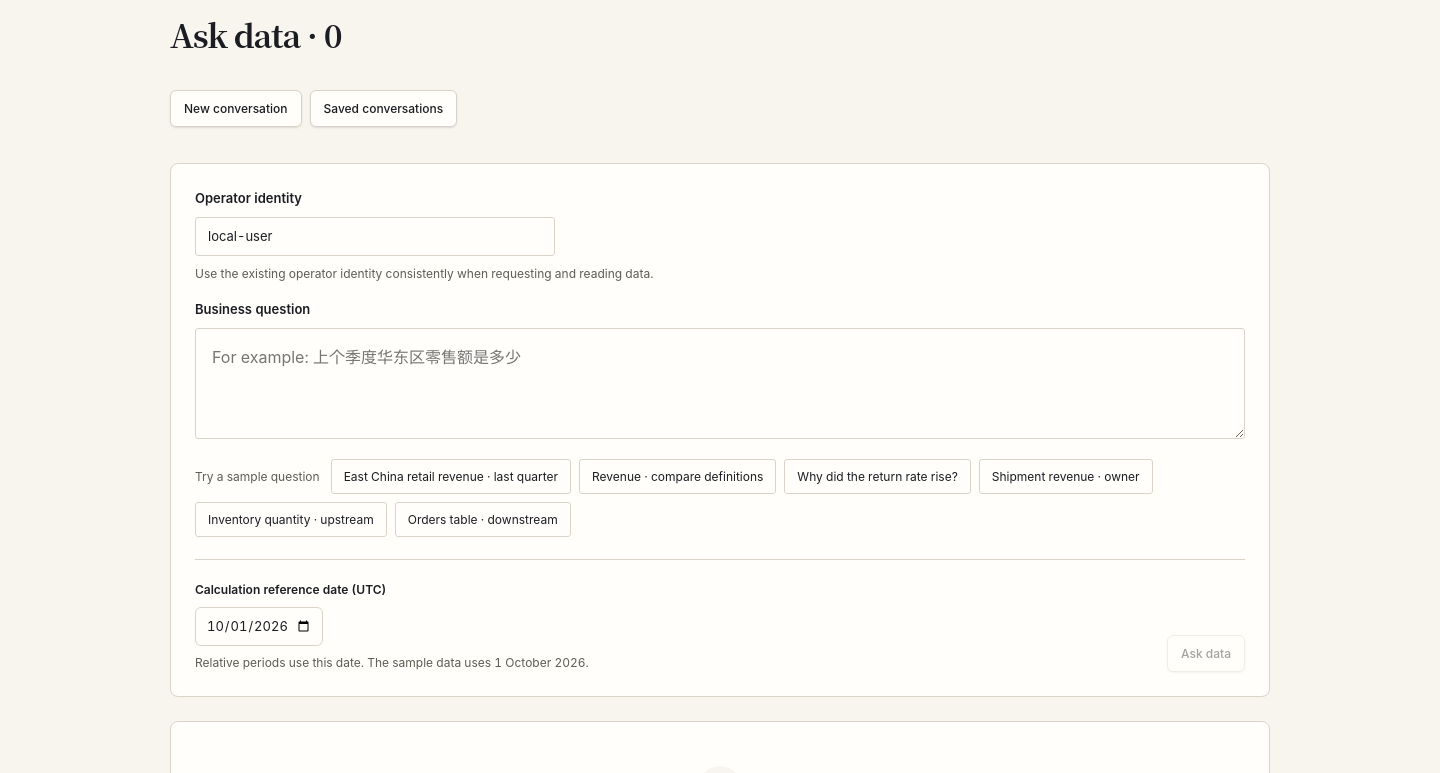
Test: sends the conversation on follow-ups, shows full interpretations, and clears it for a new topic
In the text box labelled "Business question": (720, 383) [195, 328, 1245, 439], type "上个季度华东区零售额是多少"
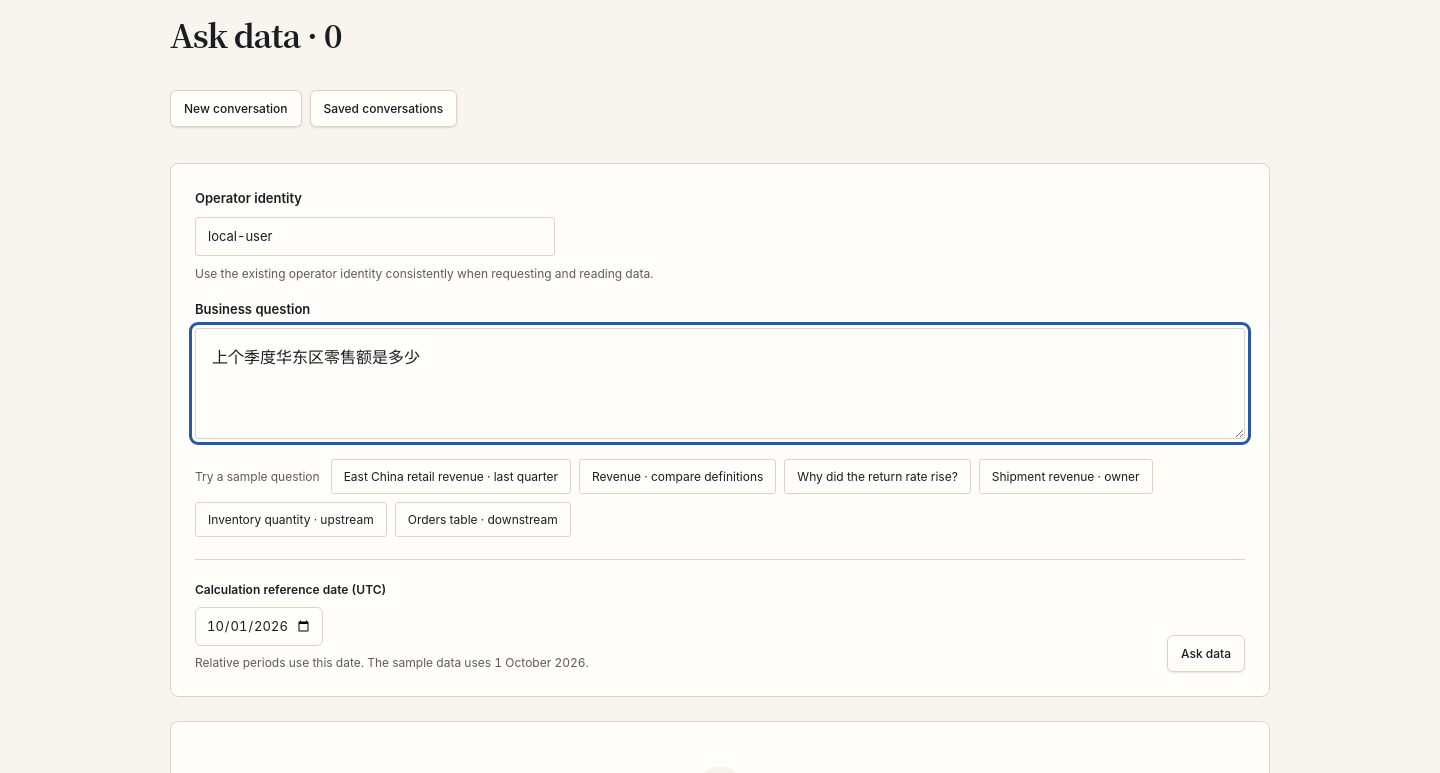
Click the button "Ask data": (1206, 654) [1167, 635, 1245, 672]
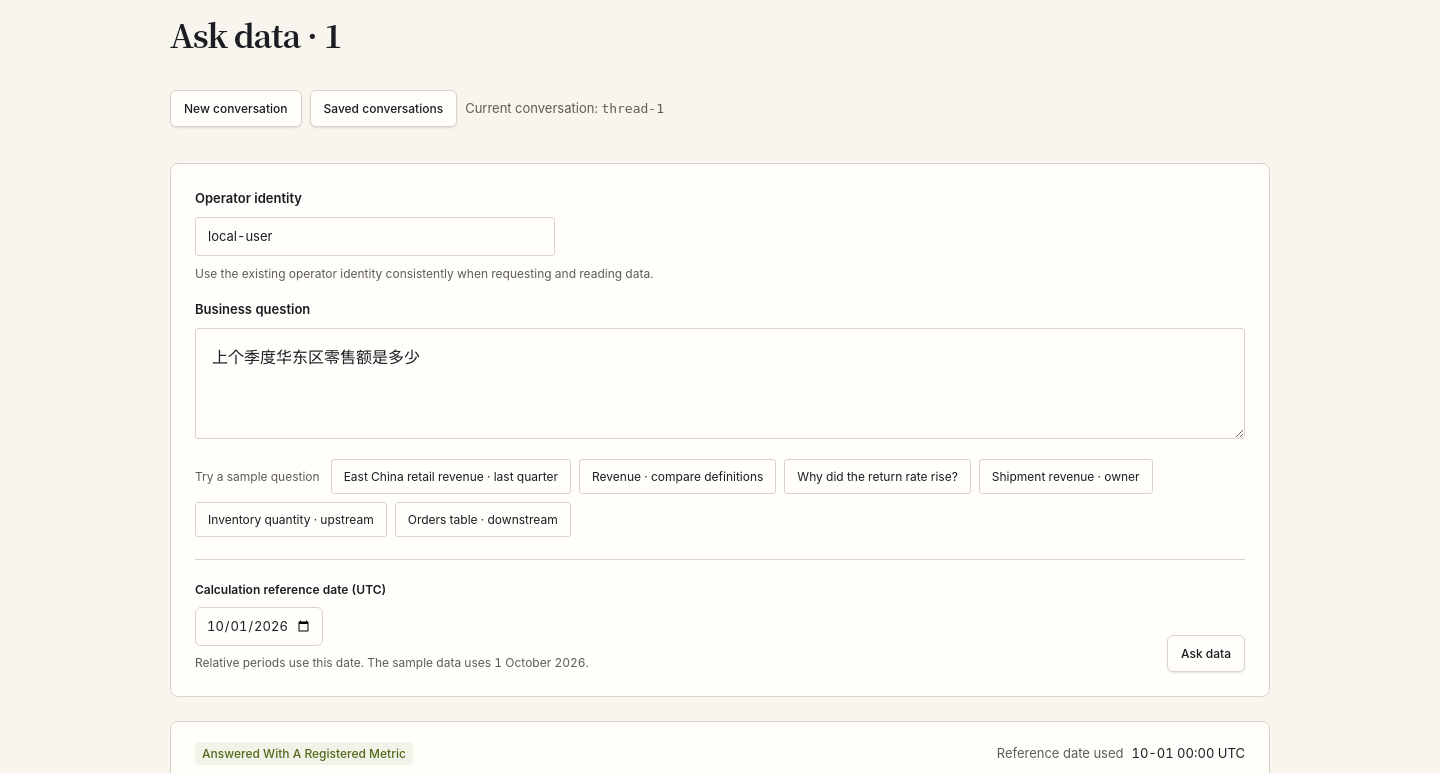
Check: the text "thread-1" is shown, box [601, 101, 664, 116]
Replace the text in the text box labelled "Business question" with "What about South China?": (720, 383) [195, 328, 1245, 439]
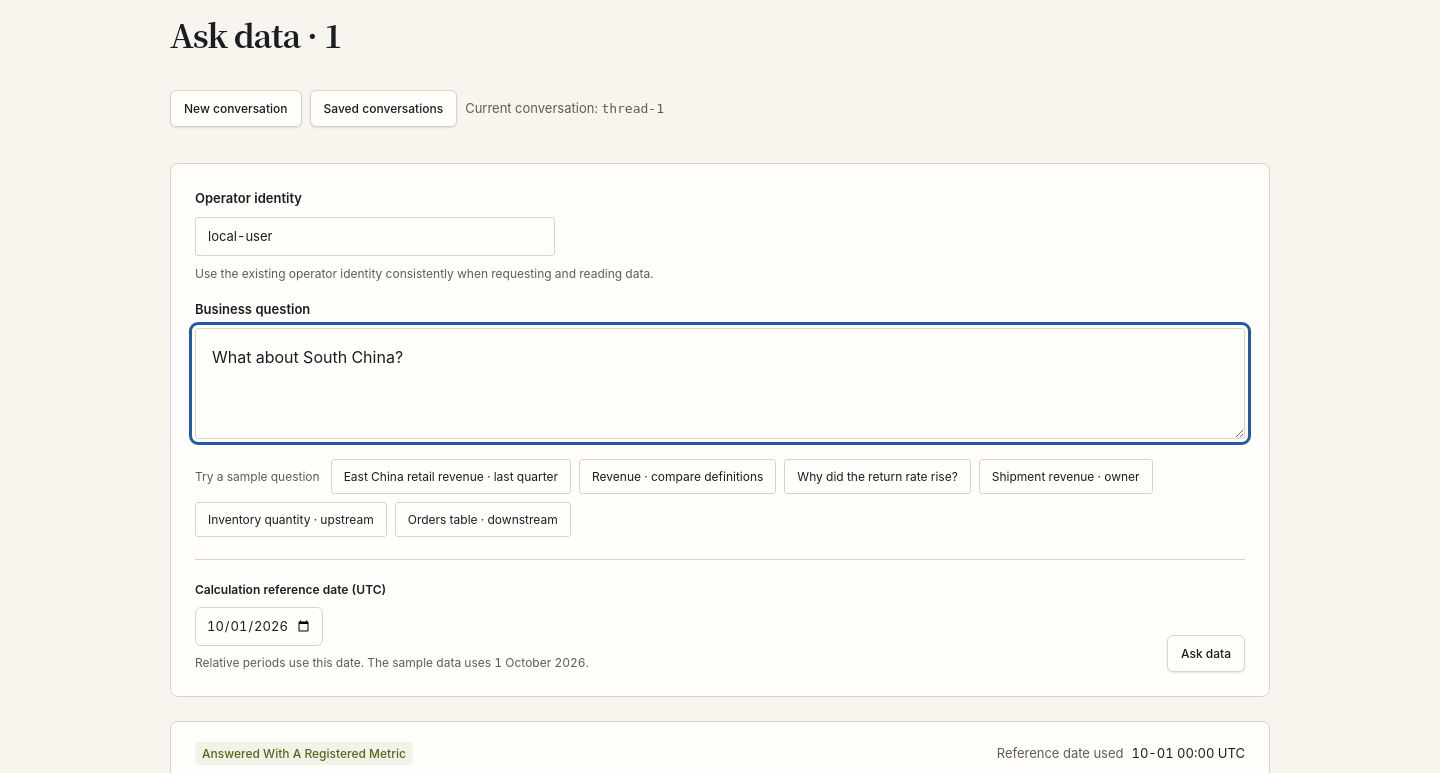
Click the button "Ask data": (1206, 654) [1167, 635, 1245, 672]
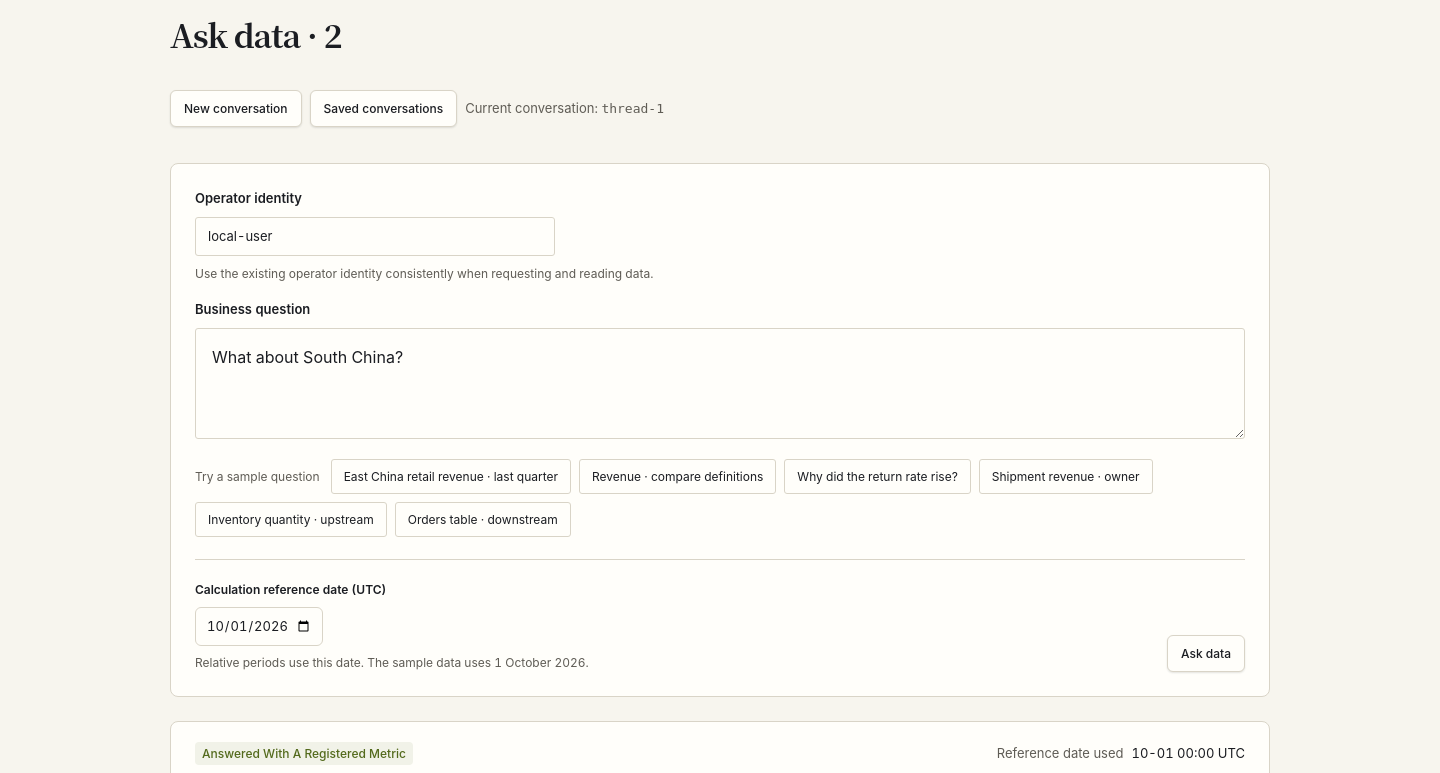
Click the button "New conversation": (236, 109) [170, 90, 302, 127]
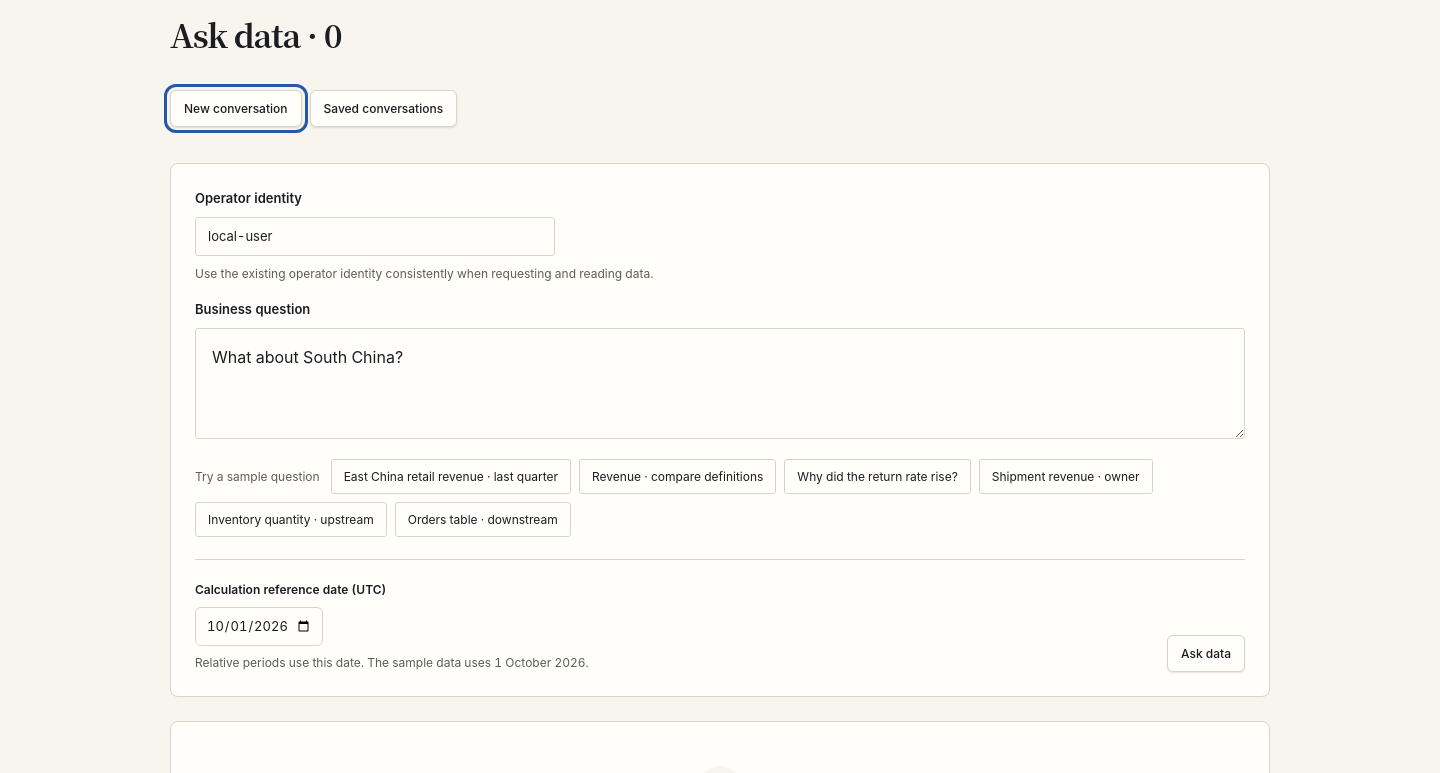
Click the button "Ask data": (1206, 654) [1167, 635, 1245, 672]
(page scrolled)
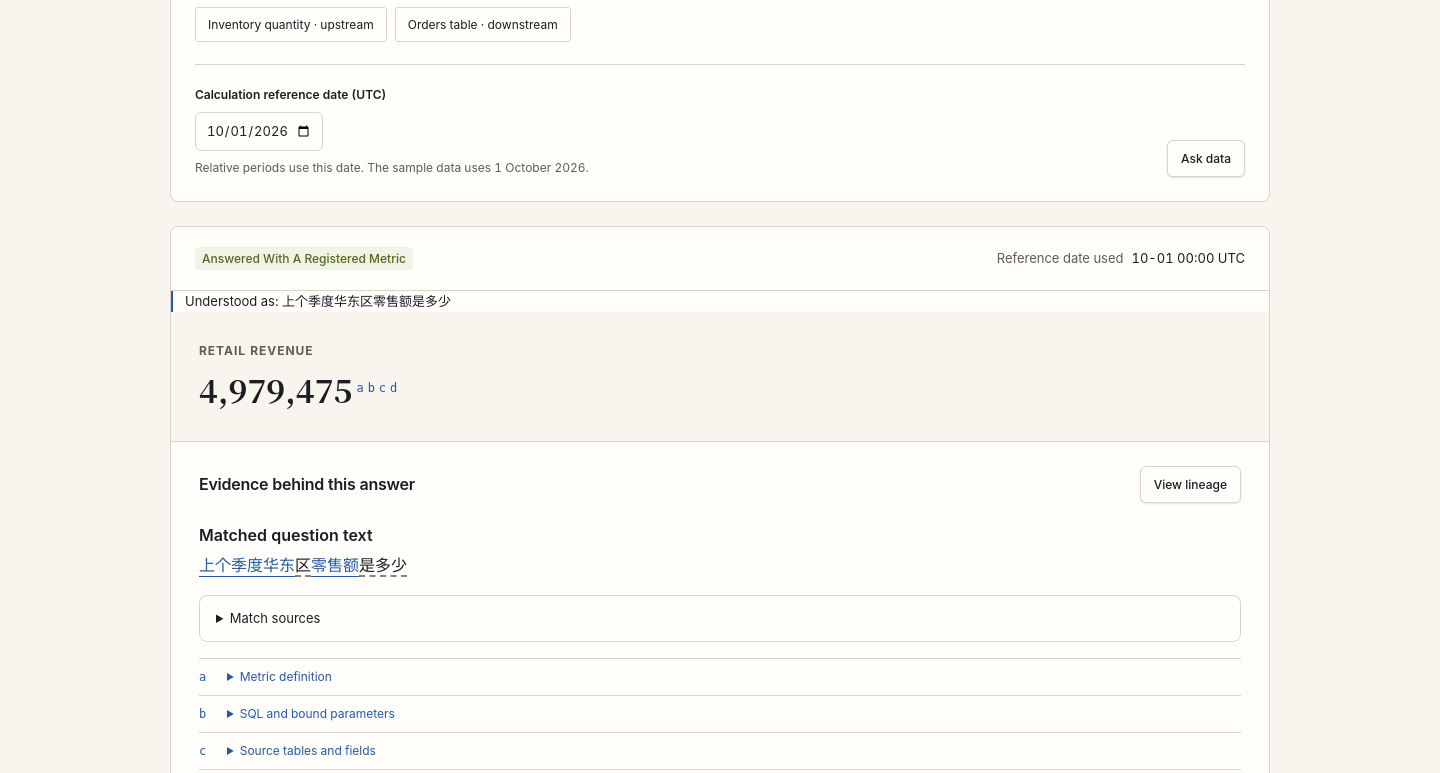
Check: the text named "Calculated result" is shown, box [199, 366, 352, 412]
